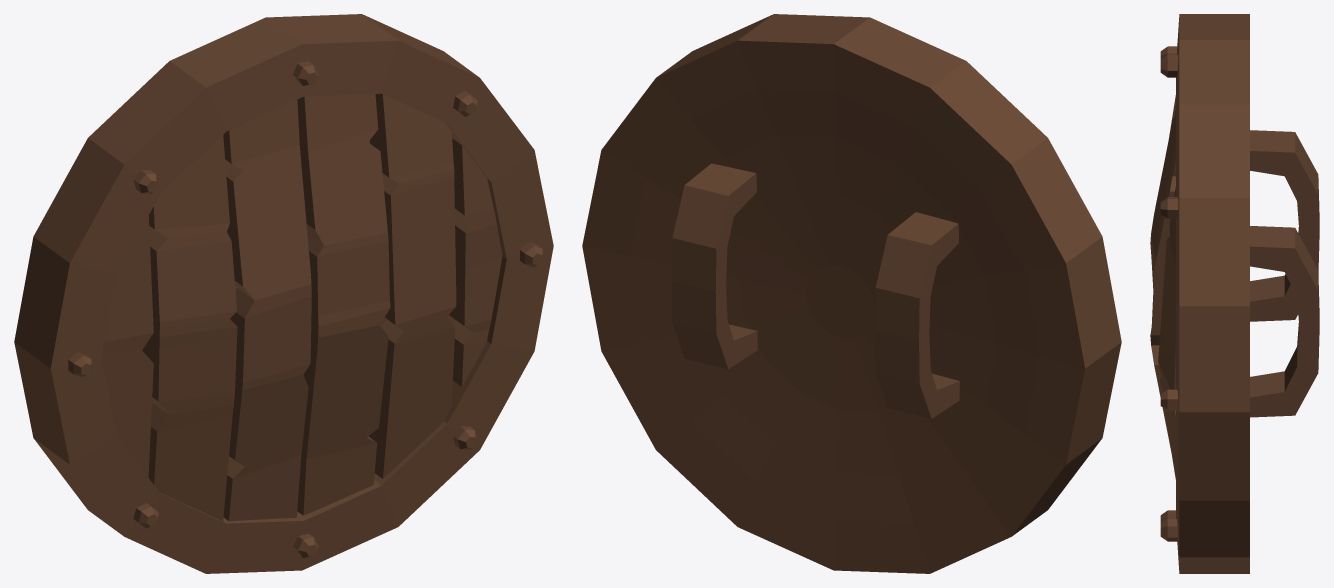
Rendered from Shield_Round_2.glb.
3 renders of one model, left to right at view 1: azimuth 30°, elevation 25°; view 2: azimuth 150°, elevation 25°; view 3: azimuth 270°, elevation 25°, orthographic. The views are drawn at different scales.
Size of the model in its own units: 2 by 2 by 0.6037.
